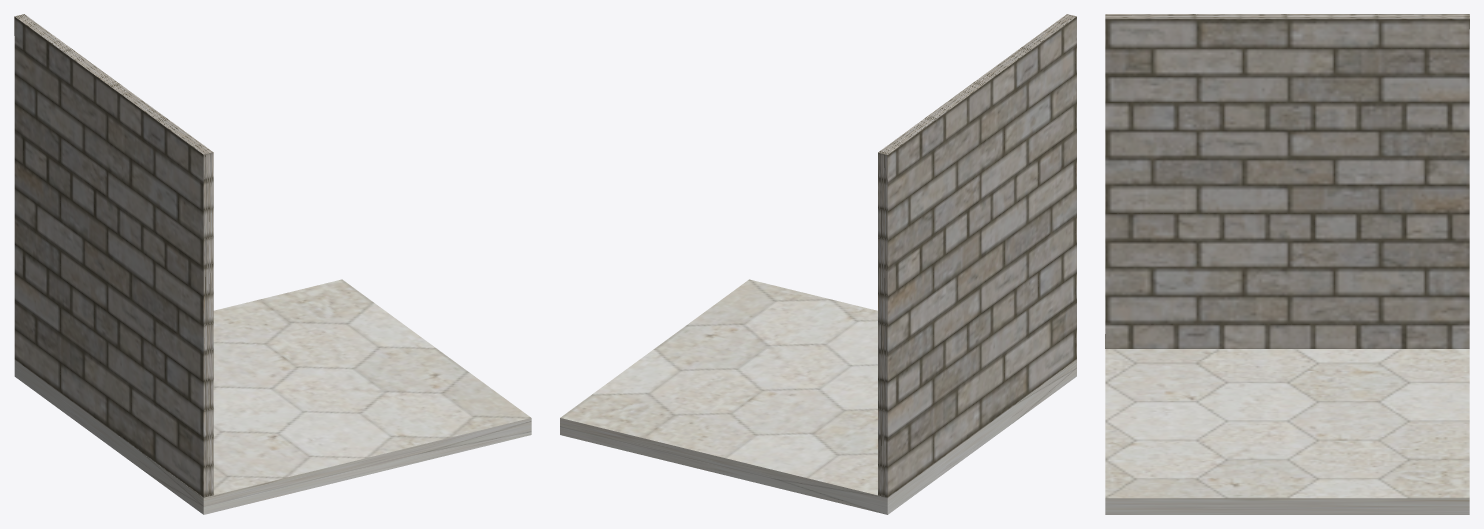
Rendered from PrisonV2.1.fbx.
3 renders of one model, left to right at view 1: azimuth 30°, elevation 25°; view 2: azimuth 150°, elevation 25°; view 3: azimuth 270°, elevation 25°, orthographic. The views are drawn at different scales.
Visible parts, largest first — view 1: Wall, TileFloor; view 2: Wall, TileFloor; view 3: Wall, TileFloor.
Part boxes in pixels (<box>): Wall: <box>14,14,213,497</box>; TileFloor: <box>14,279,531,514</box>; Wall: <box>878,14,1076,497</box>; TileFloor: <box>560,279,1076,514</box>; Wall: <box>1105,14,1469,348</box>; TileFloor: <box>1105,349,1469,514</box>.
Size of the model in its own units: 600 by 630 by 600.
